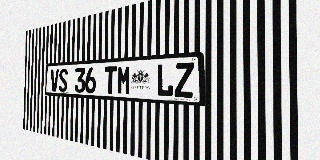3: (75, 68, 85, 93)
6: (85, 67, 96, 93)
L: (156, 63, 174, 97)
M: (117, 65, 131, 95)
S: (59, 69, 68, 92)
T: (104, 66, 117, 94)
V: (50, 69, 59, 92)
Z: (174, 62, 194, 98)
